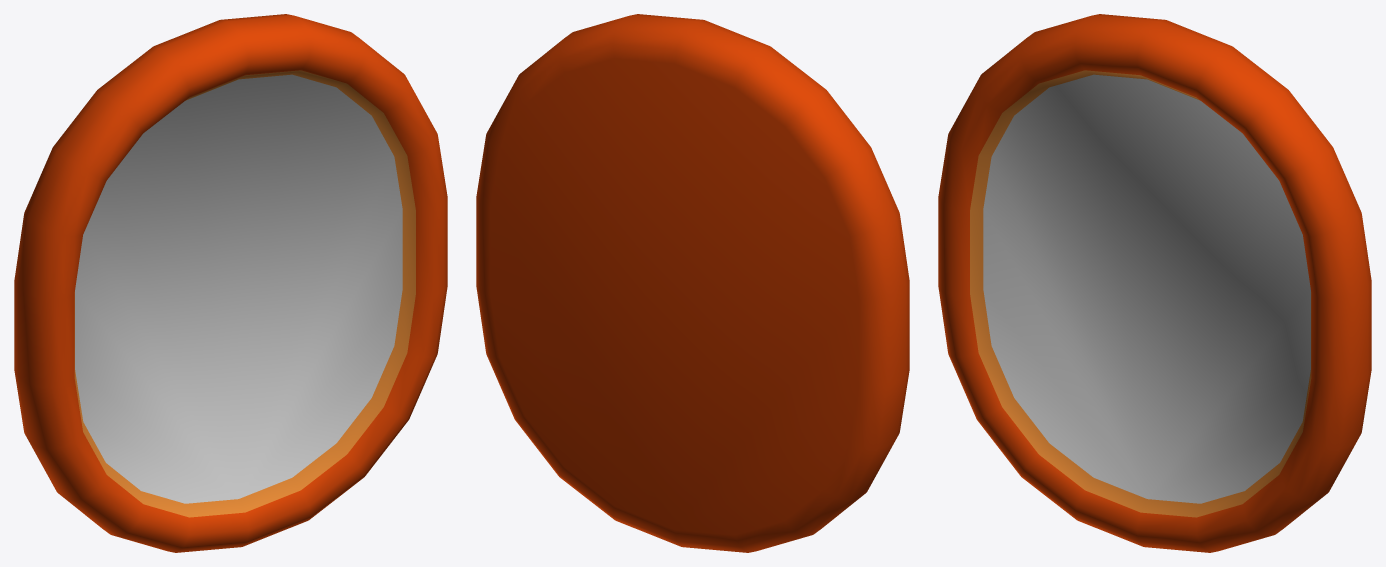
File: Mirror_2C.fbx
The picture shows the model from 3 angles, left to right: view 1: azimuth 30°, elevation 25°; view 2: azimuth 150°, elevation 25°; view 3: azimuth 330°, elevation 25°; orthographic projection.
Parts seen in each view (by area): view 1: Mirror_2C; view 2: Mirror_2C; view 3: Mirror_2C.
Boxes of the visible parts, x1=… form: Mirror_2C: x1=14, y1=14, x2=447, y2=552; Mirror_2C: x1=476, y1=14, x2=909, y2=552; Mirror_2C: x1=938, y1=14, x2=1371, y2=552.
Size of the model in its own units: 0.517 by 0.6128 by 0.0786.
